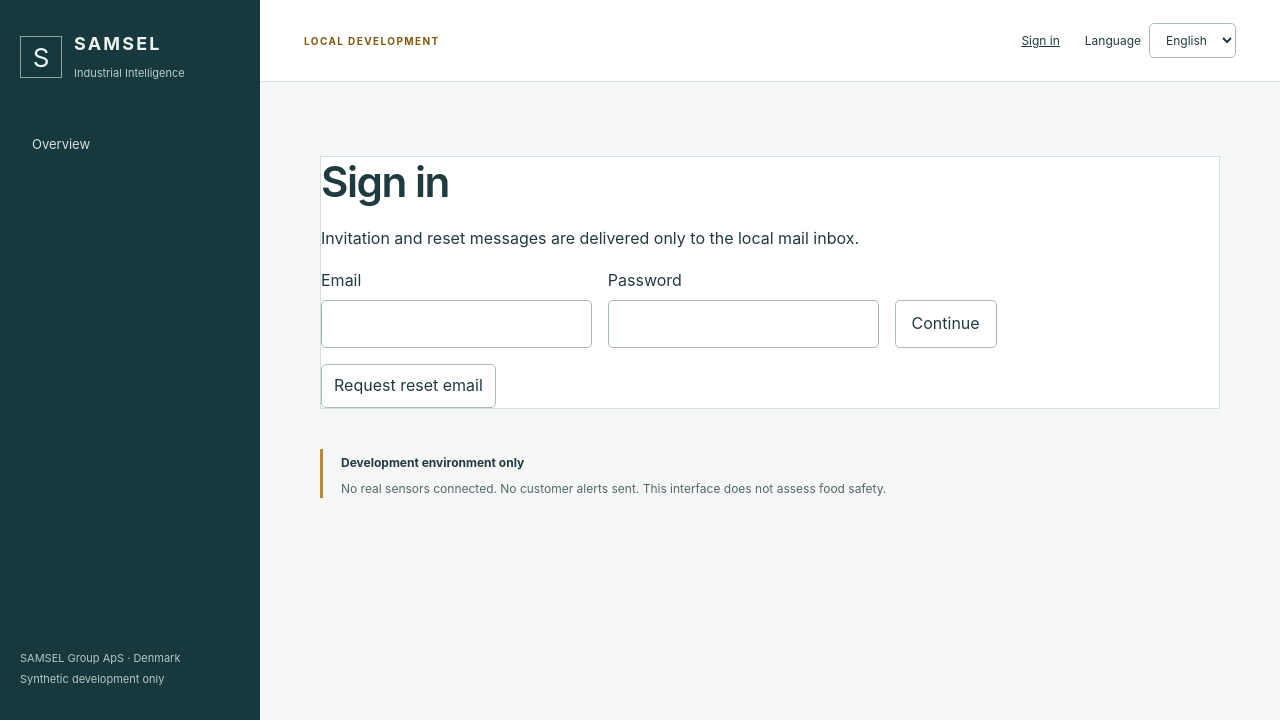
Scenario: MFA enrollment shows recovery codes only after successful verification
Step 1. Type "owner@example.invalid" into the field labelled "Email" → {"x": 456, "y": 324}, box [321,300,592,348]
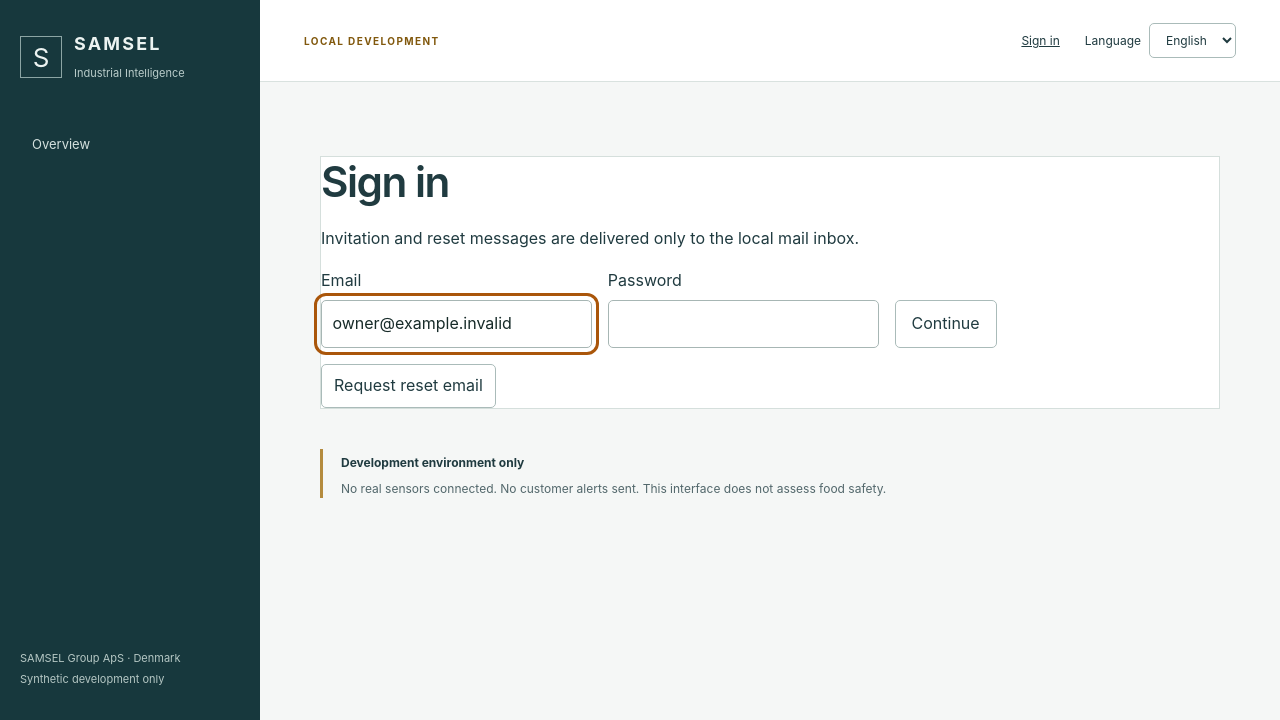
Step 2. Type "test password proof" into the password field labelled "Password" → {"x": 743, "y": 324}, box [608,300,879,348]
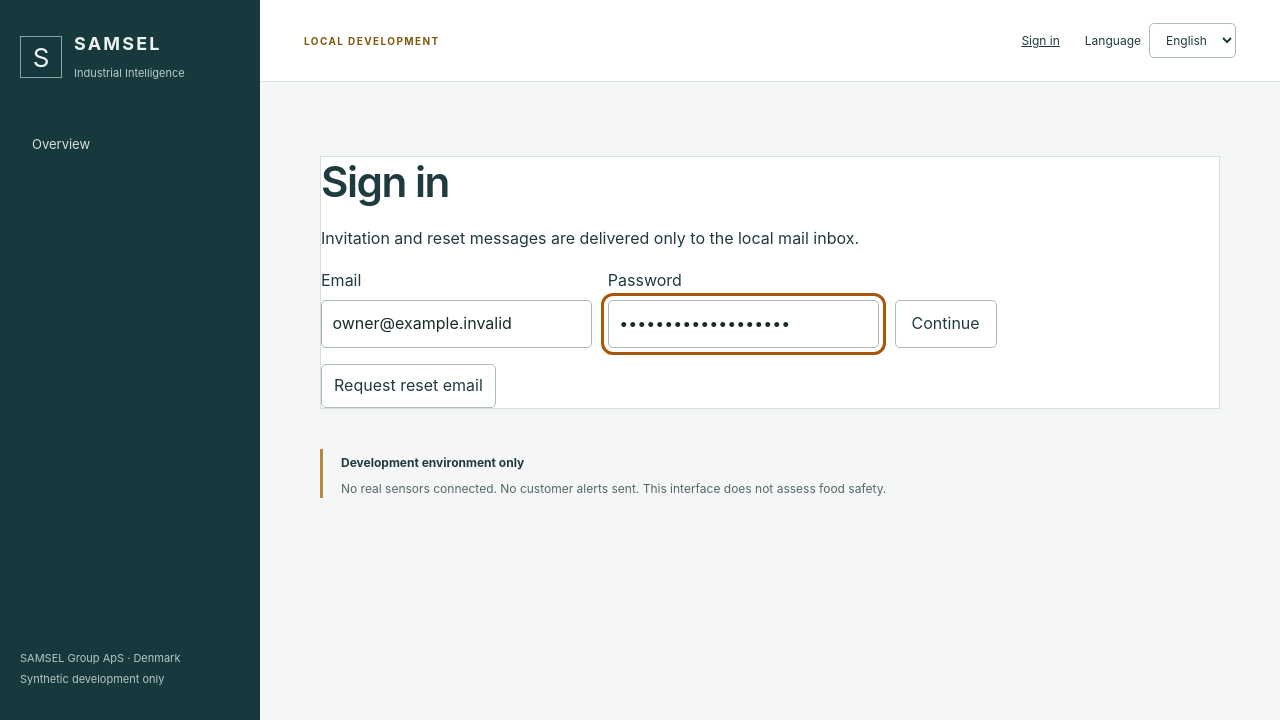
Step 3. Click the button "Continue" → {"x": 946, "y": 324}, box [895,300,997,348]
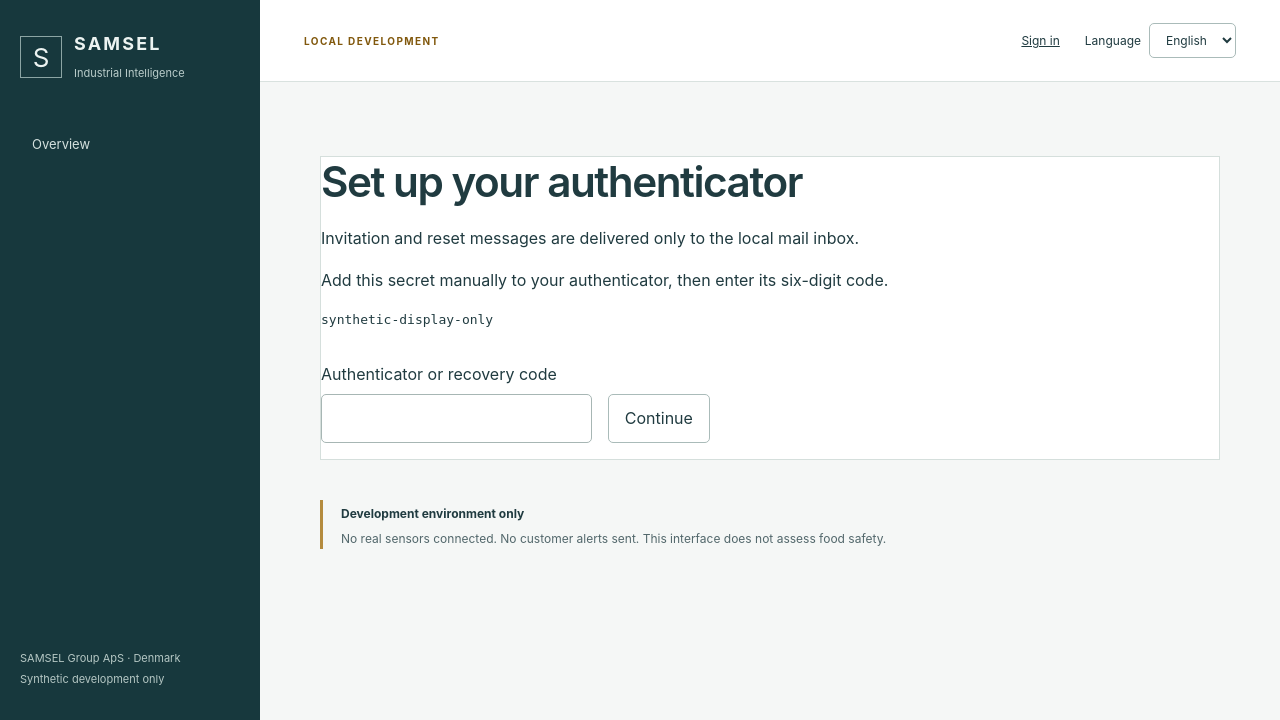
expect the text "synthetic-display-only" is shown: met, box [321,310,493,330]
Step 4. Type "123456" into the field labelled "Authenticator or recovery code" → {"x": 456, "y": 419}, box [321,394,592,443]
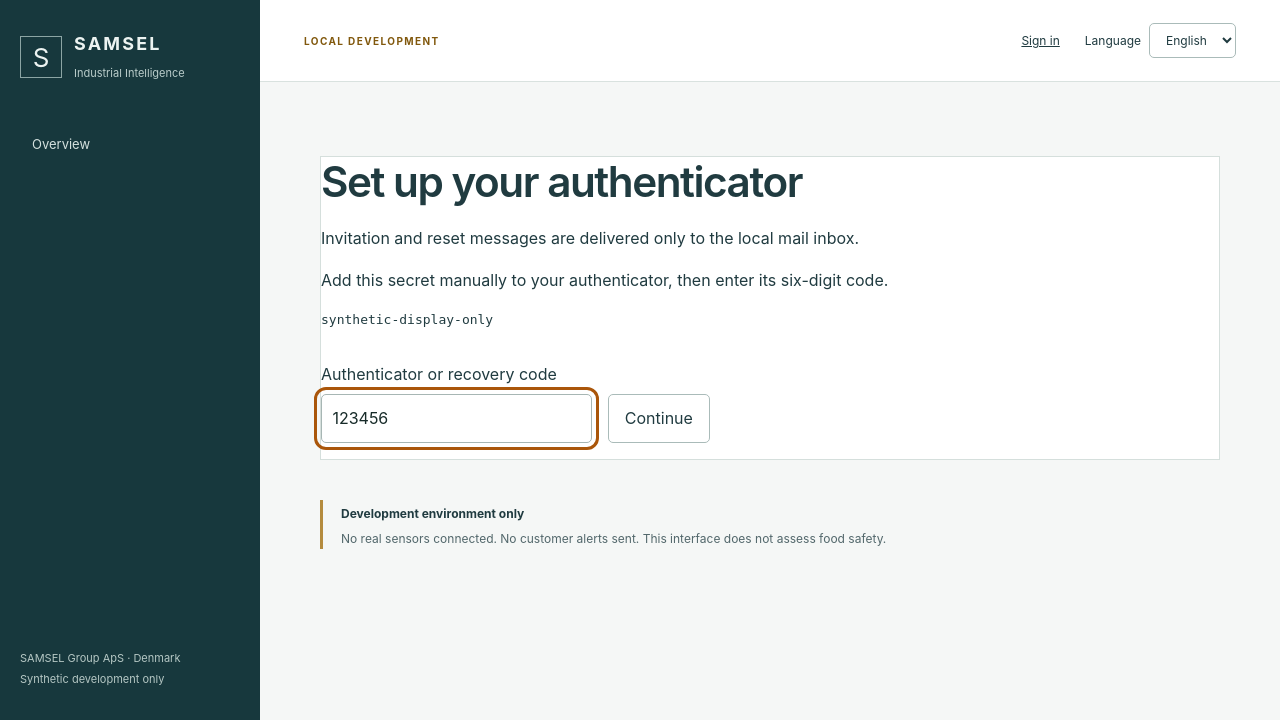
Step 5. Click the button "Continue" → {"x": 659, "y": 419}, box [608,394,710,443]
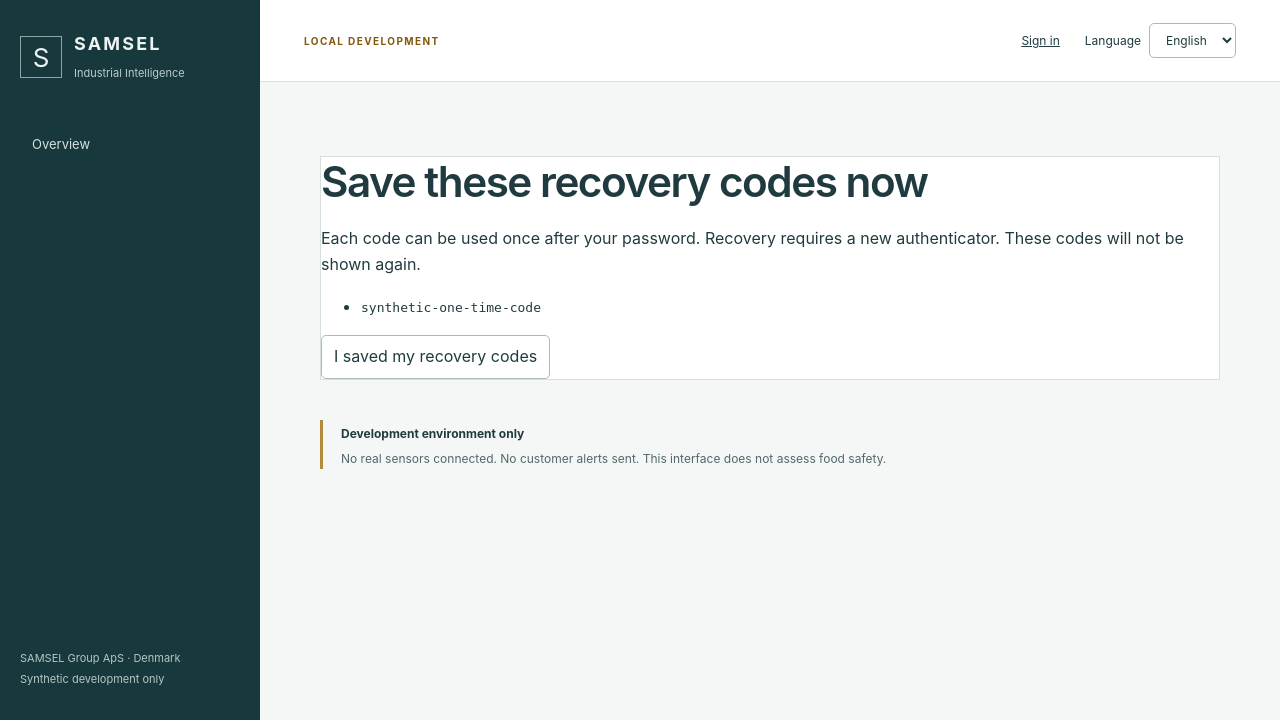
expect the text "synthetic-one-time-code" is shown: met, box [361,300,541,315]
expect the text "synthetic-display-only" is gone: met
